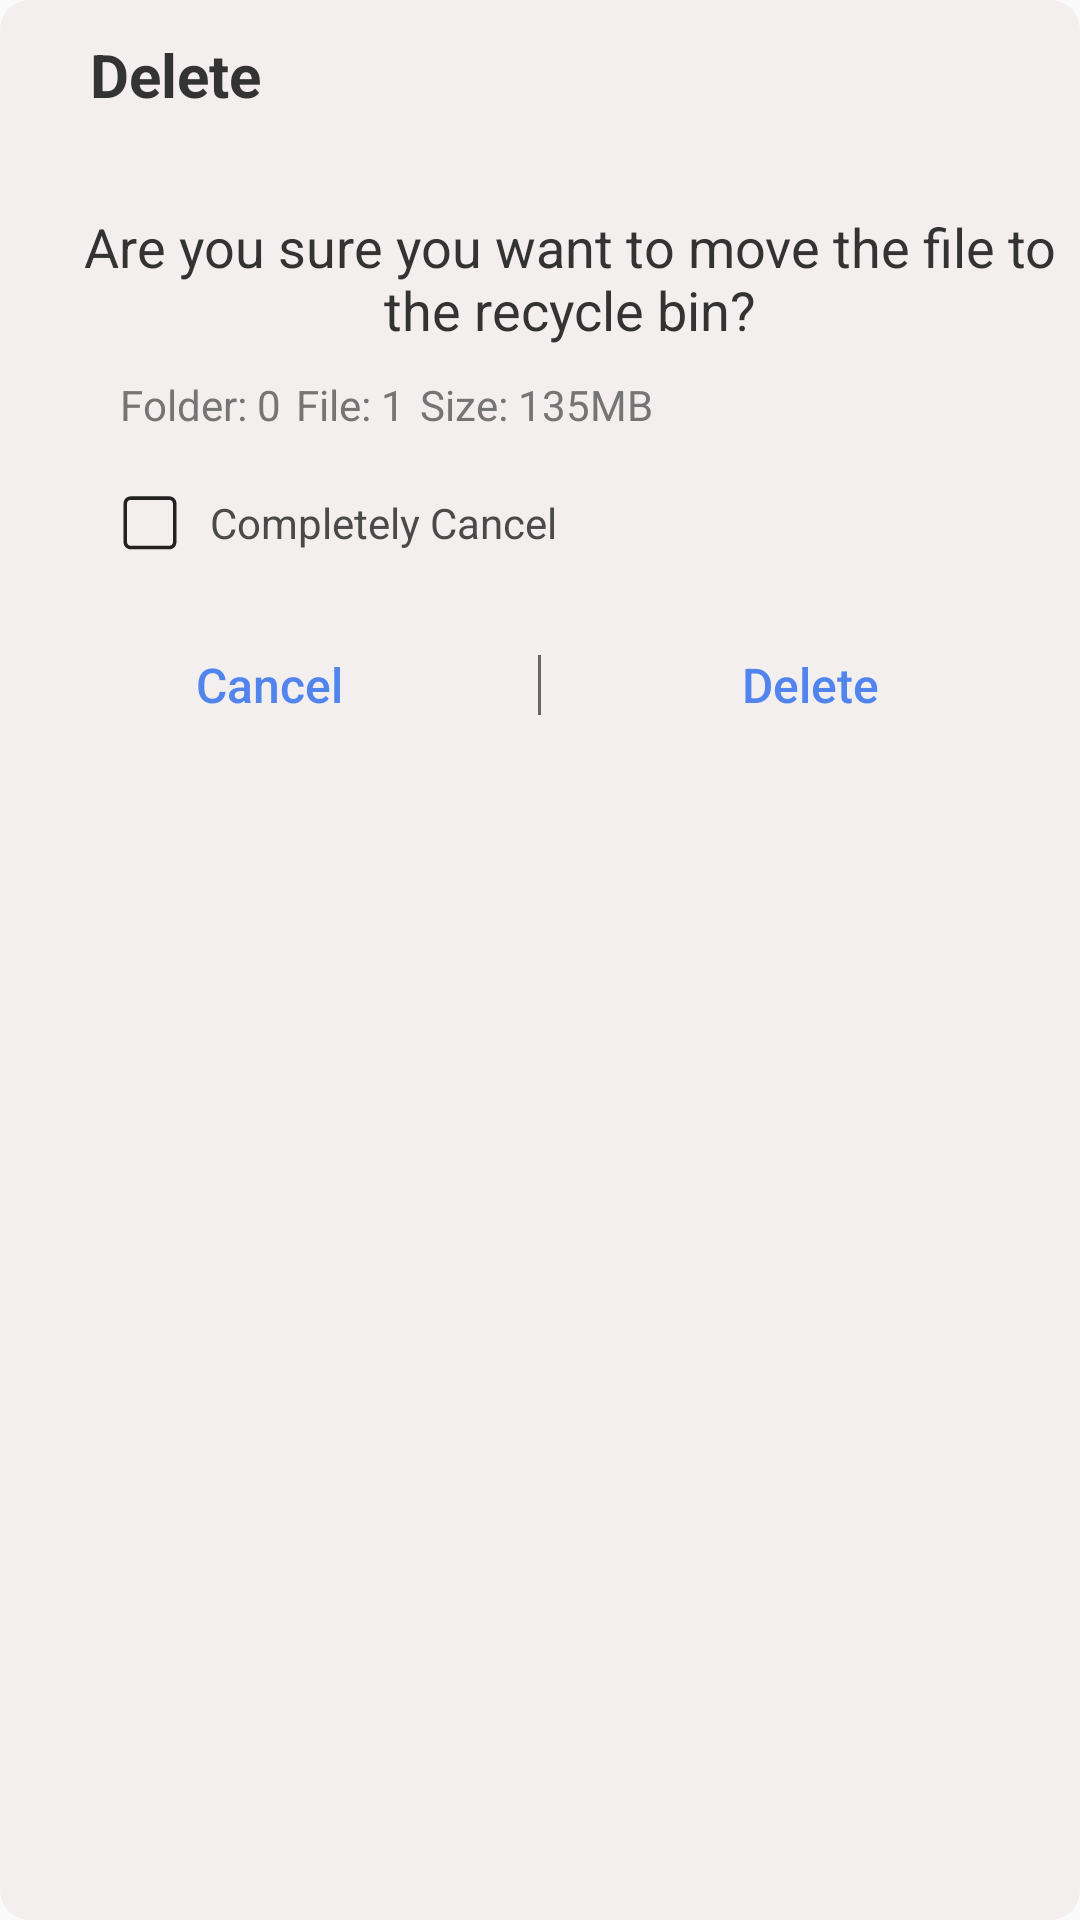

Icons on this 1080px x 1920px Android screen, each with its box as (x1, y1, x2, y2):
select no: (123, 496, 177, 550)
